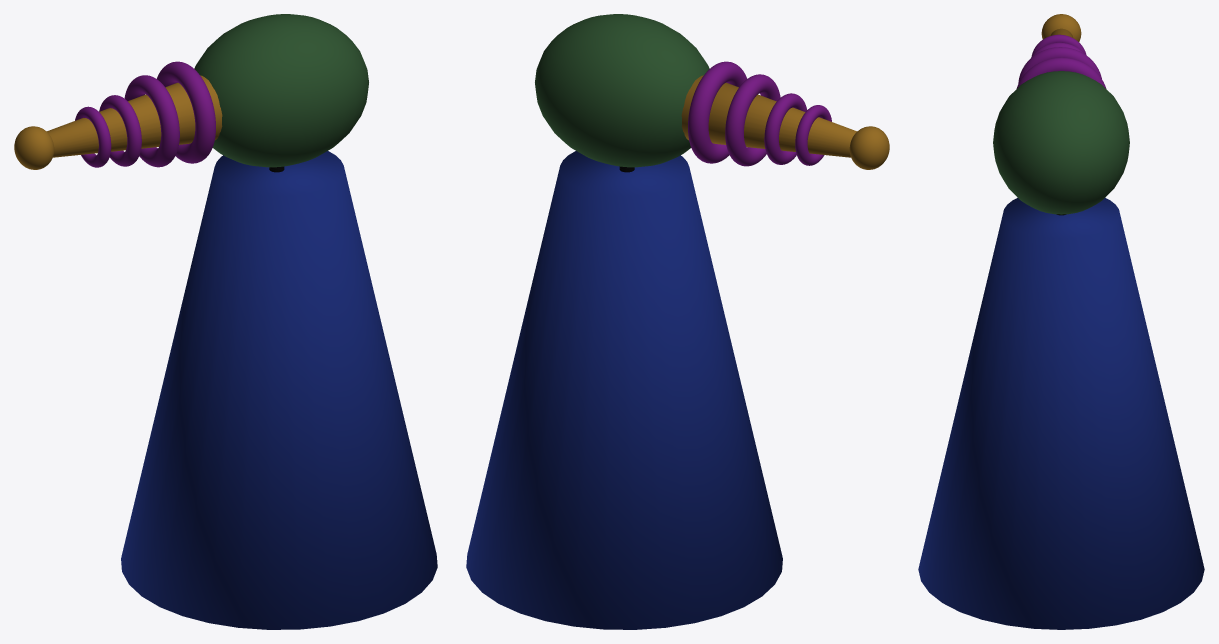
Rendered from ELECTRO.fbx.
The picture shows the model from 3 angles, left to right: view 1: azimuth 30°, elevation 25°; view 2: azimuth 150°, elevation 25°; view 3: azimuth 270°, elevation 25°; orthographic projection. The views are drawn at different scales.
Parts seen in each view (by area): view 1: Cylinder, Cylinder.001; view 2: Cylinder, Cylinder.001; view 3: Cylinder, Cylinder.001.
Boxes of the visible parts, x1,y1,x2,y2 form: Cylinder: (121, 151, 437, 629); Cylinder.001: (14, 14, 368, 169); Cylinder: (466, 151, 782, 629); Cylinder.001: (535, 14, 889, 169); Cylinder: (918, 197, 1204, 629); Cylinder.001: (993, 14, 1129, 214).
Size of the model in its own units: 455 by 590 by 313.
